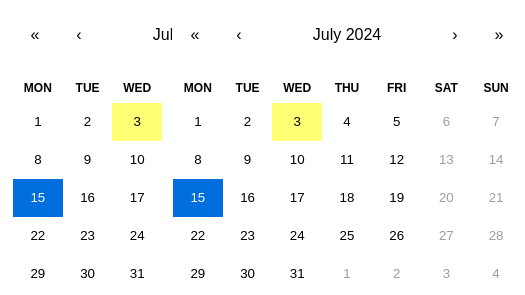
Scenario: CalendarMonthView › changes the month when the previous button is clicked
The width and height of the screenshot is (525, 295).
Click the 1st button with class "react-calendar__navigation__prev-button" at point(79, 35), box [57,13,101,57]
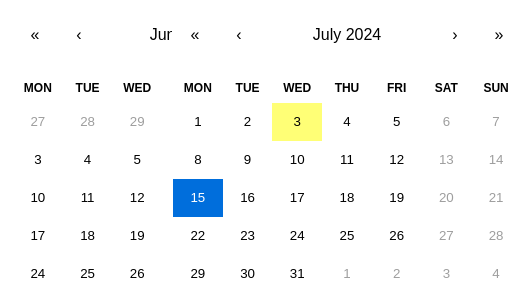
Expected: the text "June 2024" is shown, [150,26,224,43]
